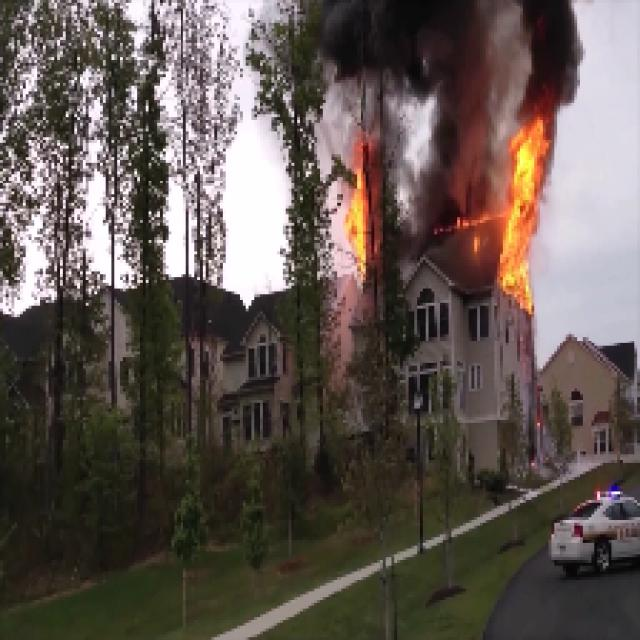fire: (496, 140, 550, 304)
smoke: (392, 10, 502, 221), (510, 8, 576, 112)
